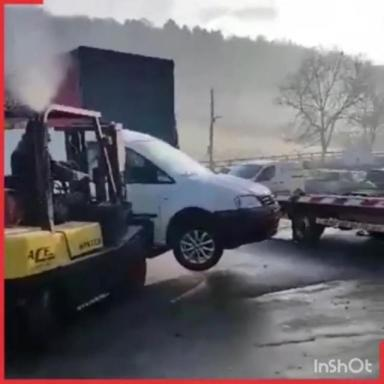forklift: (2, 92, 158, 328)
